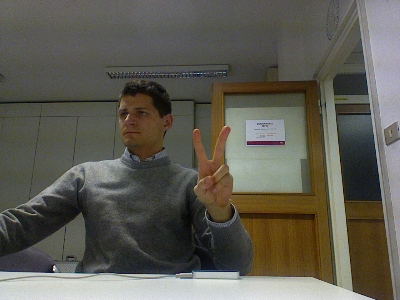剪刀: (190, 124, 234, 208)
